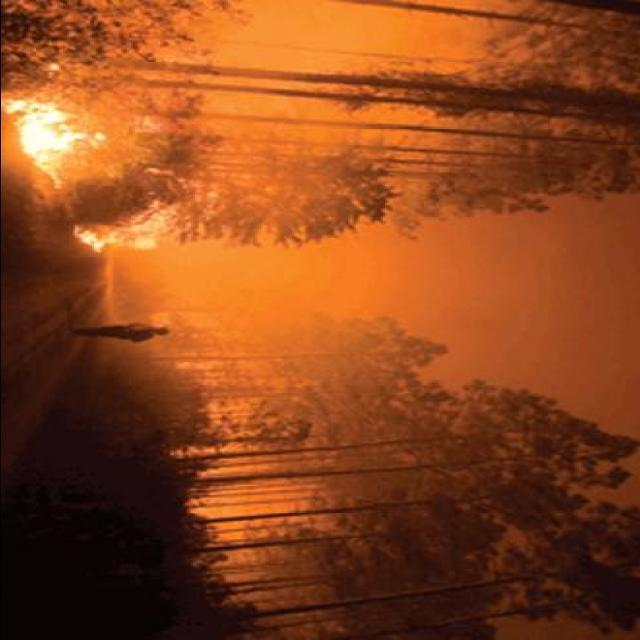Fire: (0, 97, 186, 252)
